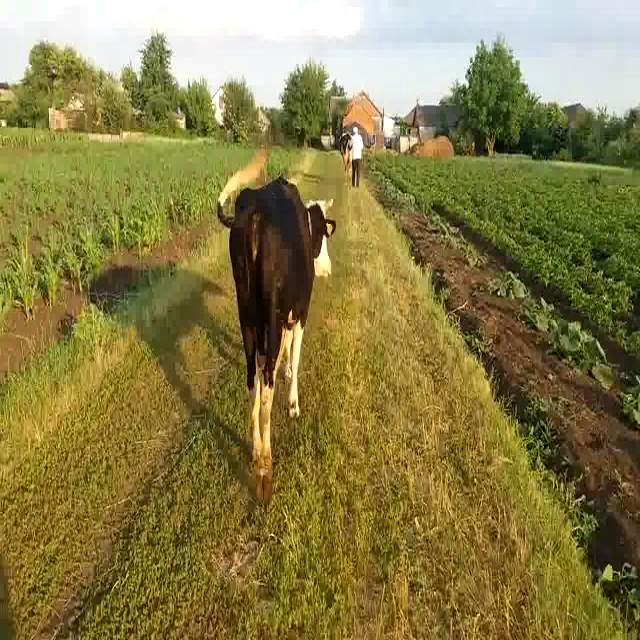COW: (218, 178, 335, 506)
